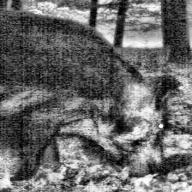boar: (0, 10, 182, 184)
